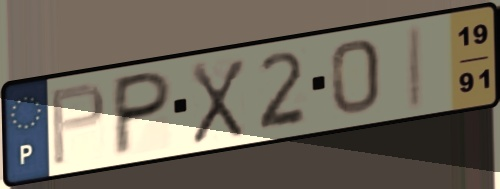0: (327, 37, 385, 118)
2: (256, 48, 310, 135)
I: (403, 21, 427, 116)
P: (108, 66, 176, 161), (47, 79, 109, 169)
X: (188, 55, 248, 148)
